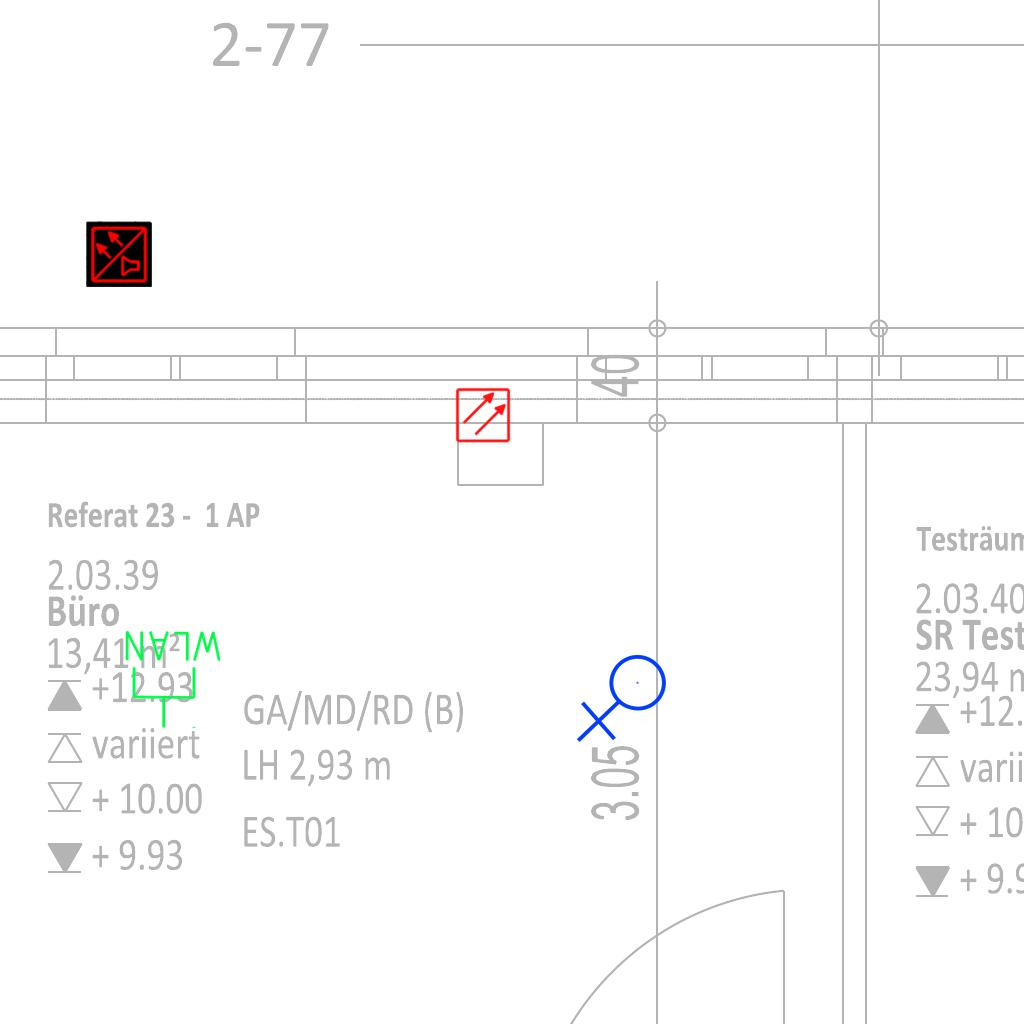Elektroanschluss_allgemein_230V_Geraeteanschlussdose_230V: (576, 653, 675, 747)
OKW_Multisensormelder_(Kombination_optischer_Rauch-Kahlenmonoxid_Waerme-Melder): (86, 221, 152, 287)
RMO_Rauchmelder_optischer: (455, 387, 511, 443)
WLAN: (121, 627, 226, 731)
